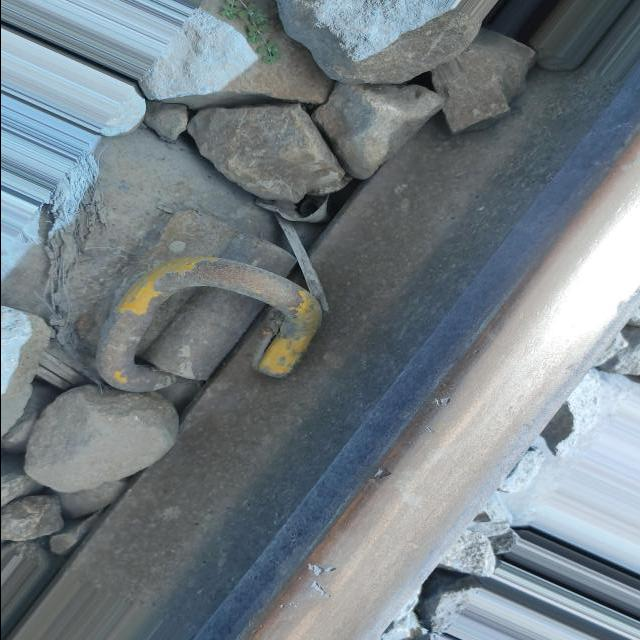squats_high: (278, 562, 340, 608), (368, 467, 392, 487), (429, 395, 455, 407)
